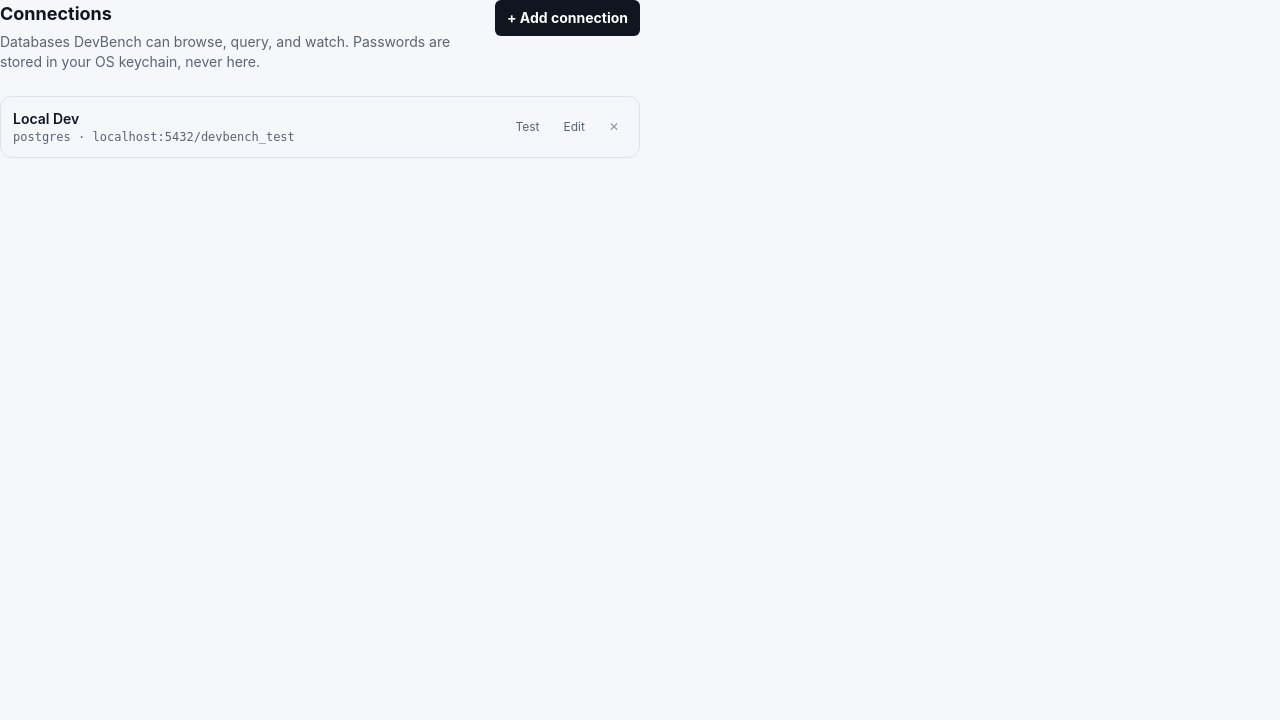
it: ConnectionsPane › offers no clear-password action for a connection with none stored
The width and height of the screenshot is (1280, 720).
Expected: the text "Local Dev" is shown, top-left (13, 110), bottom-right (79, 127)
Click the button with aria-label "Edit Local Dev": [574, 127] box top-left (556, 115), bottom-right (593, 139)
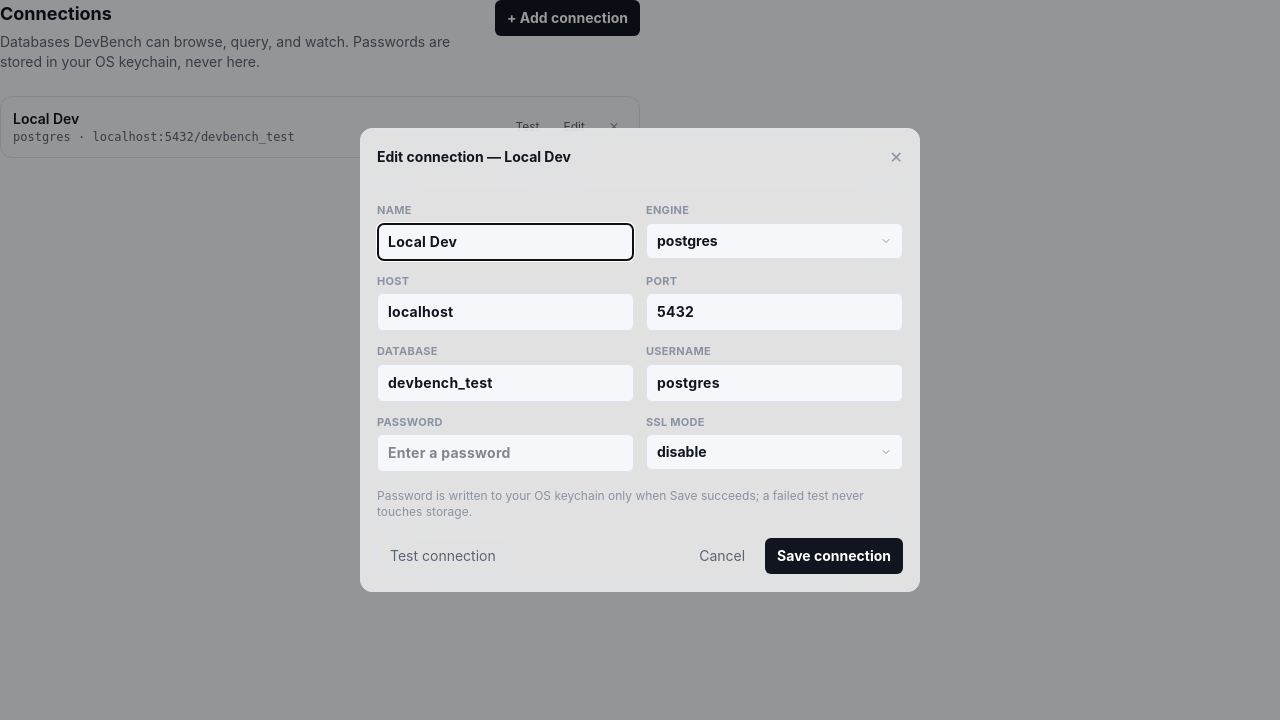
Expected: the password field with placeholder "Enter a password" is shown, top-left (377, 434), bottom-right (634, 472)
